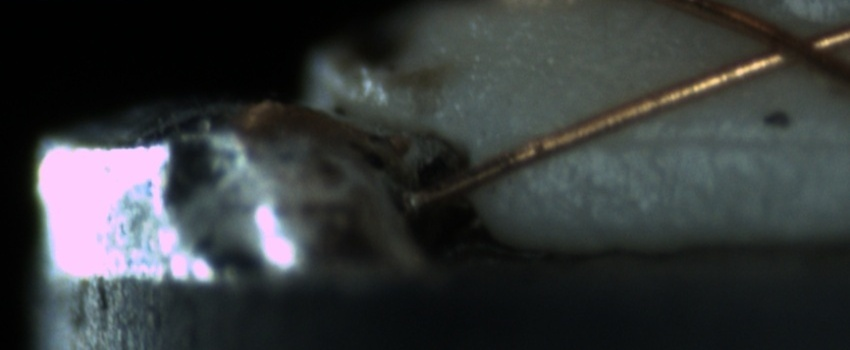CL: (740, 12, 842, 78)
DL: (572, 109, 841, 172)
